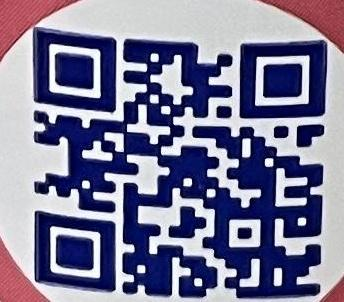qrcode: (34, 28, 328, 297)
